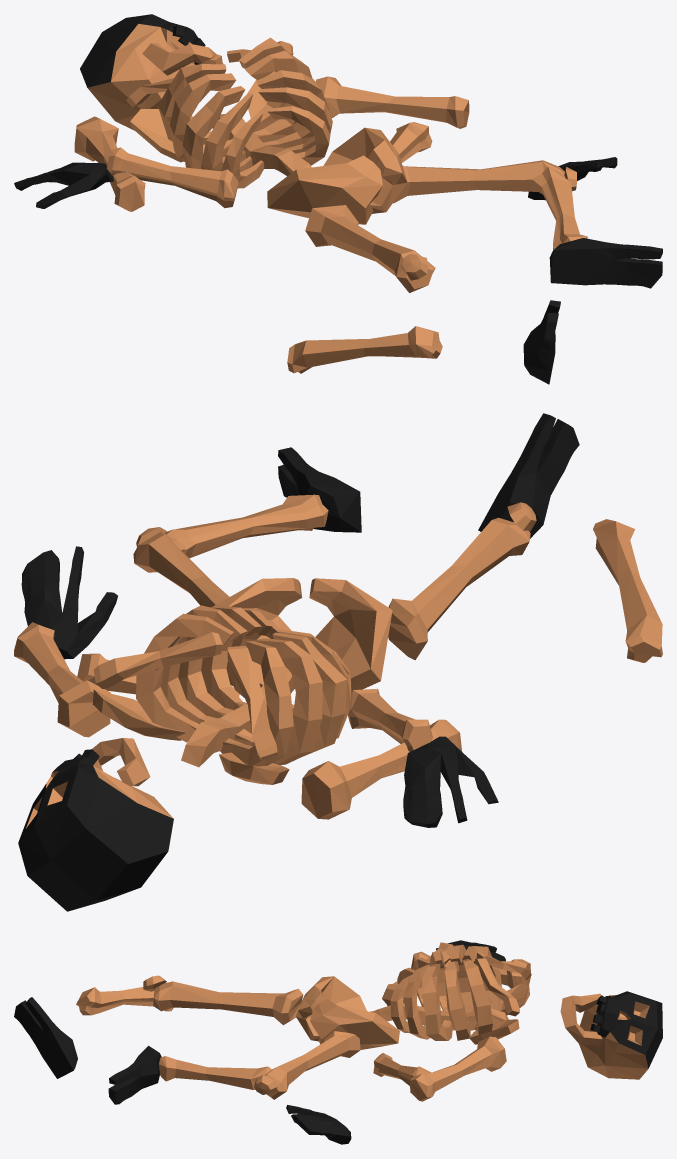
The model's file is SM_Prop_Skeleton_Ground_02.glb.
3 views of the same model, one above another, from view 1: azimuth 30°, elevation 25°; view 2: azimuth 150°, elevation 25°; view 3: azimuth 270°, elevation 25° (orthographic). The views are drawn at different scales.
Parts seen in each view (by area): view 1: SM_Prop_Skeleton_Ground_02_00; view 2: SM_Prop_Skeleton_Ground_02_00; view 3: SM_Prop_Skeleton_Ground_02_00.
Boxes of the visible parts, x1,y1,x2,y2 form: SM_Prop_Skeleton_Ground_02_00: (14, 14, 662, 384); SM_Prop_Skeleton_Ground_02_00: (14, 413, 662, 911); SM_Prop_Skeleton_Ground_02_00: (14, 940, 662, 1144).
Bounding box in the file's own units: 1.29 × 0.4067 × 1.96.
Materials: 1 (1 with a texture image).
